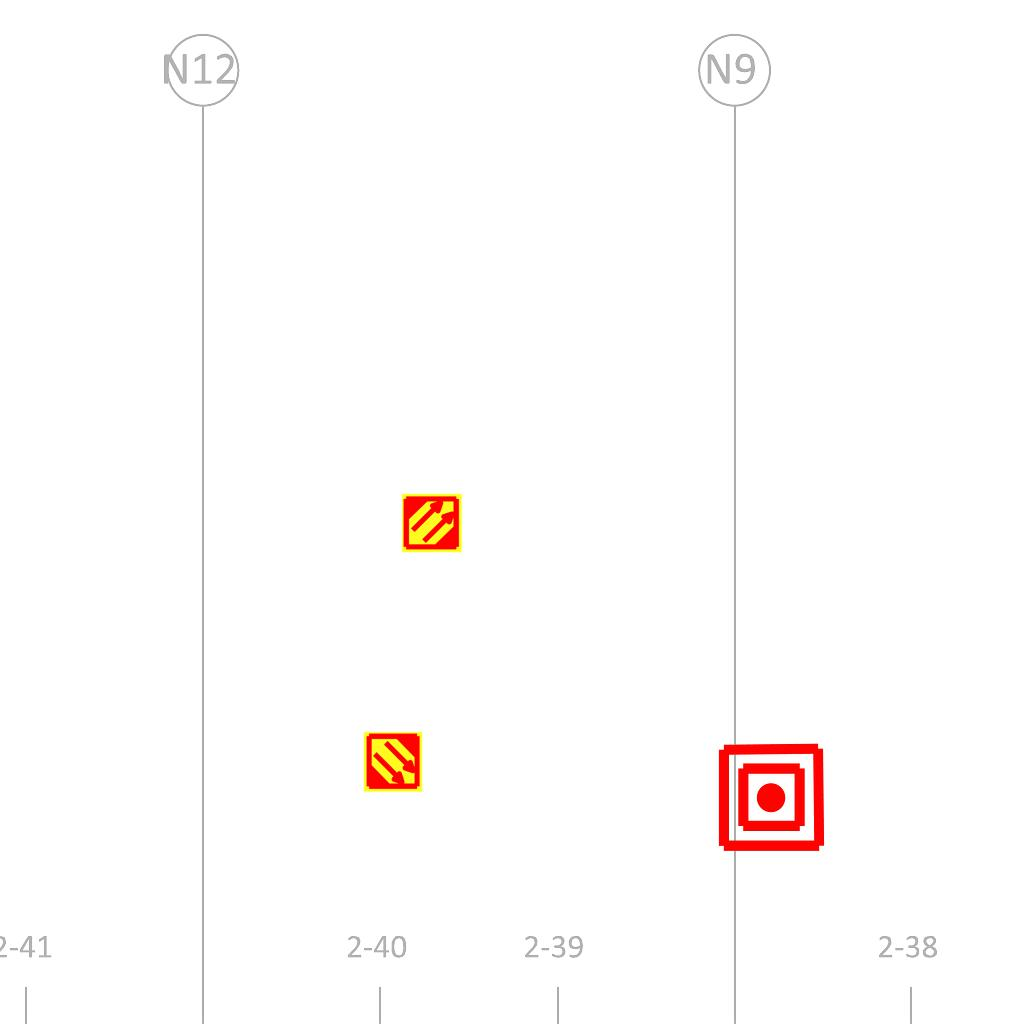ASR_Ansaugrauchmelder: (362, 731, 424, 793), (401, 492, 463, 554)
NAM-Nichtautomatischer_Melder: (715, 741, 828, 854)
